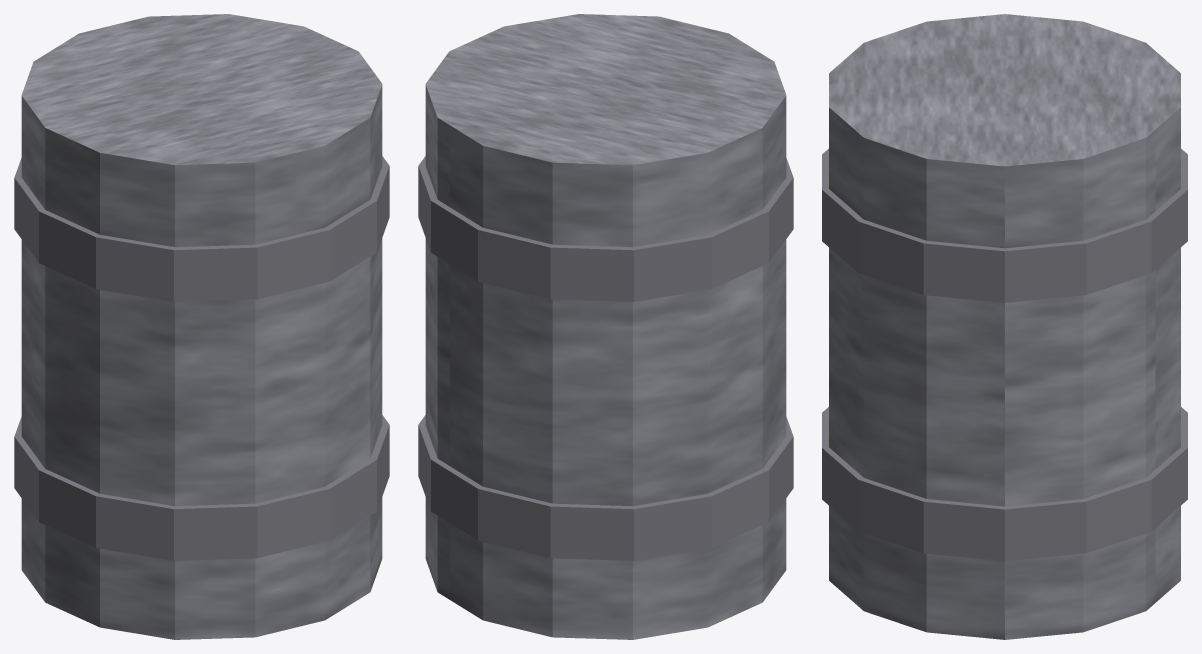
File: prop_barrel.glb
The picture shows the model from 3 angles, left to right: view 1: azimuth 30°, elevation 25°; view 2: azimuth 150°, elevation 25°; view 3: azimuth 270°, elevation 25°; orthographic projection.
Visible parts, largest first — view 1: prop; view 2: prop; view 3: prop.
Part boxes in pixels (x1,y1,x2,y2): prop: (14, 14, 389, 639); prop: (418, 14, 793, 639); prop: (822, 14, 1187, 639).
Bounding box in the file's own units: 0.79 × 1.1 × 0.7702.
3 materials, 1 textured.
